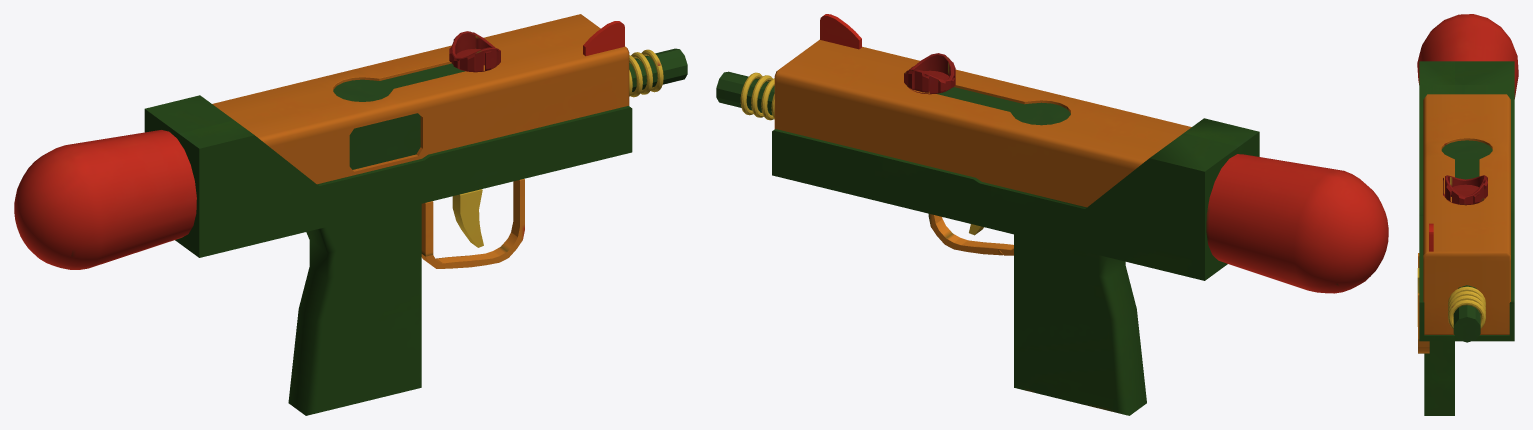
File: pistola_agua.obj
The picture shows the model from 3 angles, left to right: view 1: azimuth 30°, elevation 25°; view 2: azimuth 150°, elevation 25°; view 3: azimuth 270°, elevation 25°; orthographic projection. The views are drawn at different scales.
Parts seen in each view (by area): view 1: polySurface6; view 2: polySurface6; view 3: polySurface6.
Part boxes in pixels (x1=…): polySurface6: x1=14, y1=14, x2=687, y2=415; polySurface6: x1=716, y1=14, x2=1388, y2=415; polySurface6: x1=1417, y1=14, x2=1518, y2=415.
Bounding box in the file's own units: 21.89 × 9.99 × 3.35.
Materials: 1 (1 with a texture image).
